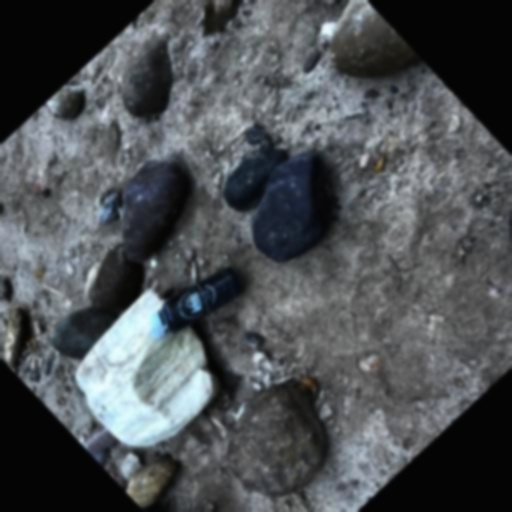bottle: (140, 252, 251, 360)
